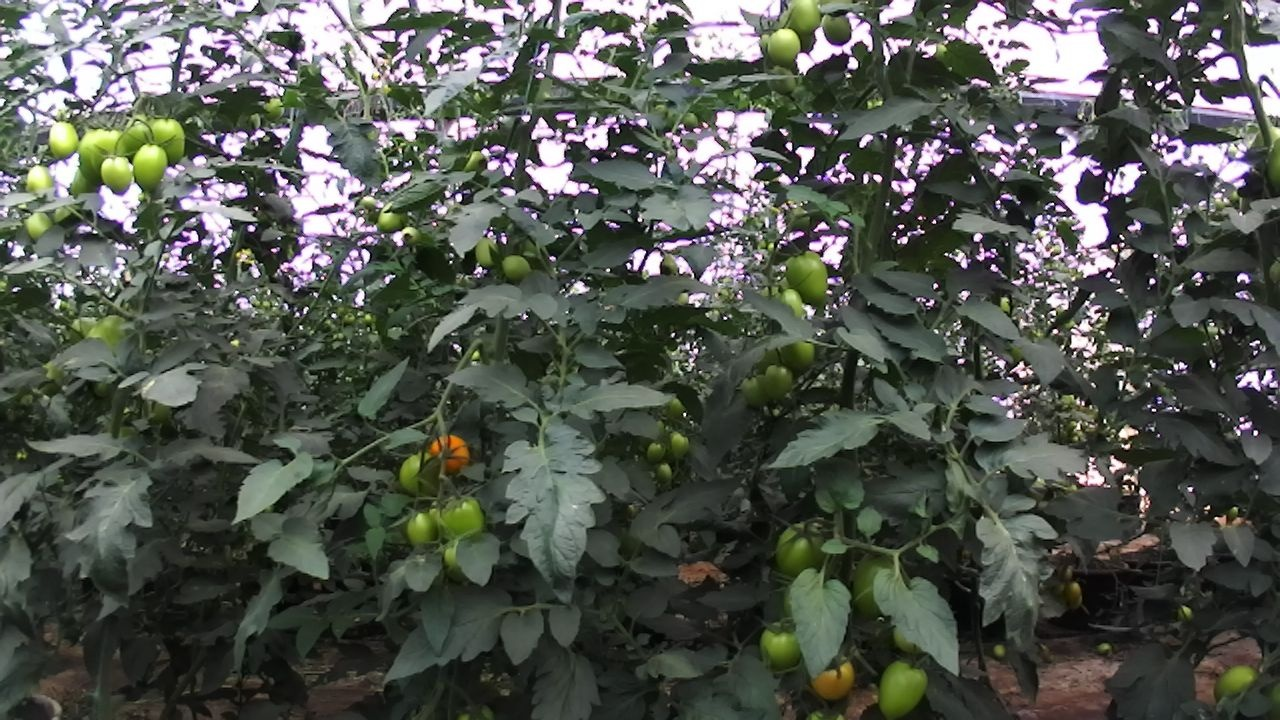tomato: (835, 540, 918, 629), (768, 507, 841, 590), (752, 608, 816, 681), (872, 649, 937, 720), (801, 639, 865, 710), (136, 107, 200, 178), (778, 243, 839, 308), (126, 136, 180, 208), (433, 491, 496, 552), (72, 121, 127, 187), (393, 442, 454, 499), (424, 419, 478, 481), (775, 332, 827, 383), (89, 152, 143, 201), (401, 503, 447, 560), (761, 21, 807, 75), (17, 158, 64, 209), (369, 196, 418, 244), (42, 115, 87, 167), (468, 231, 512, 284), (814, 5, 863, 52), (493, 245, 539, 289), (732, 369, 779, 412), (16, 205, 60, 248), (758, 358, 801, 402), (783, 0, 828, 40), (664, 424, 694, 464), (641, 436, 670, 467), (651, 458, 677, 485), (987, 637, 1012, 663)
